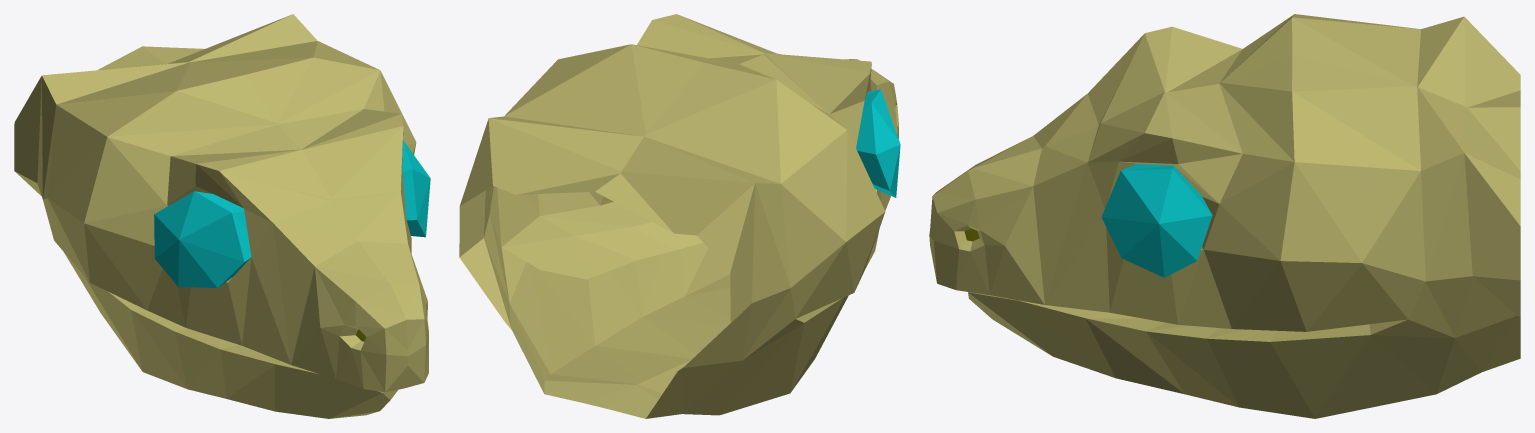
File: Prop_Statue_Snake_Head_Gems_01.FBX
3 views of the same model, side by side, from view 1: azimuth 30°, elevation 25°; view 2: azimuth 150°, elevation 25°; view 3: azimuth 270°, elevation 25° (orthographic). The views are drawn at different scales.
Parts seen in each view (by area): view 1: Prop_Statue_Snake_Head_Gems_01; view 2: Prop_Statue_Snake_Head_Gems_01; view 3: Prop_Statue_Snake_Head_Gems_01.
Part boxes in pixels (<box>): Prop_Statue_Snake_Head_Gems_01: <box>14,14,430,418</box>; Prop_Statue_Snake_Head_Gems_01: <box>459,14,900,418</box>; Prop_Statue_Snake_Head_Gems_01: <box>929,14,1520,418</box>.
Bounding box in the file's own units: 2677 × 2178 × 3711.
